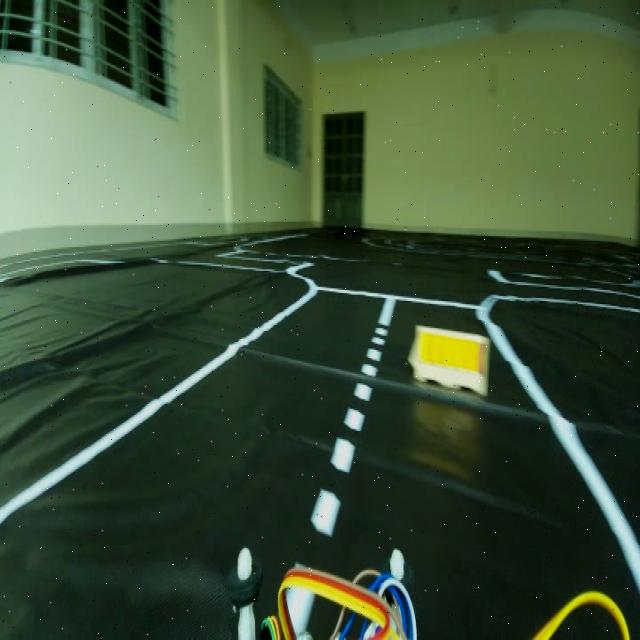roadblock: (408, 320, 494, 412)
